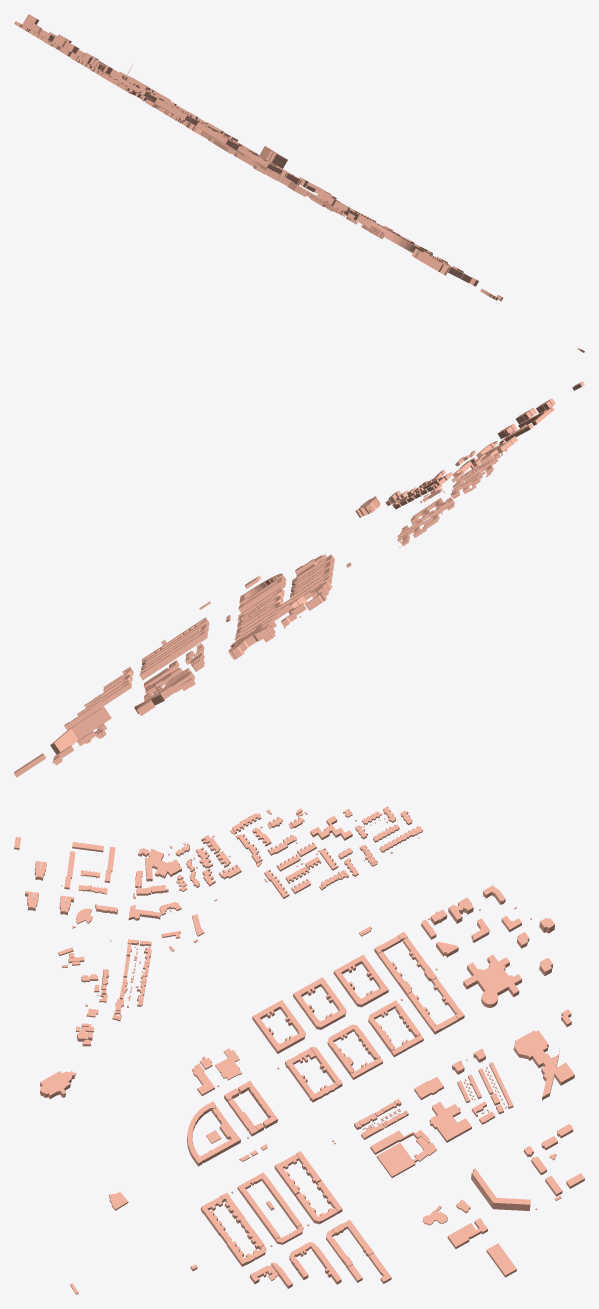
3 views of the same model, one above another, from view 1: azimuth 30°, elevation 25°; view 2: azimuth 150°, elevation 25°; view 3: azimuth 270°, elevation 25° (orthographic). The views are drawn at different scales.
Size of the model in its own units: 1021 by 749 by 1290.
